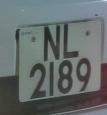1: (46, 60, 58, 100)
2: (26, 59, 51, 101)
8: (56, 58, 75, 97)
9: (74, 57, 94, 95)
L: (61, 19, 81, 62)
N: (39, 19, 64, 63)
